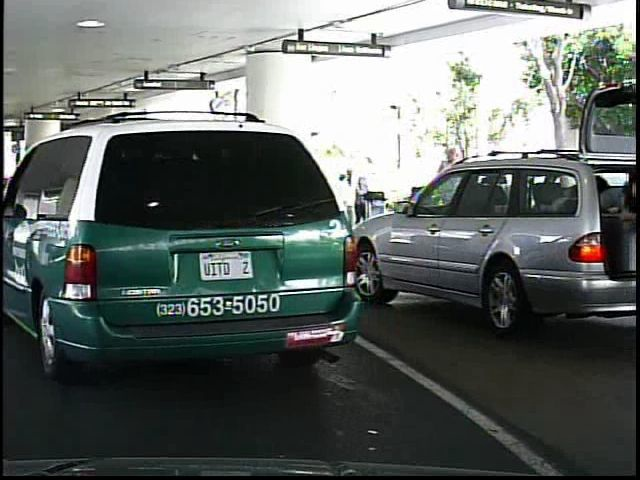person: (426, 141, 471, 262)
